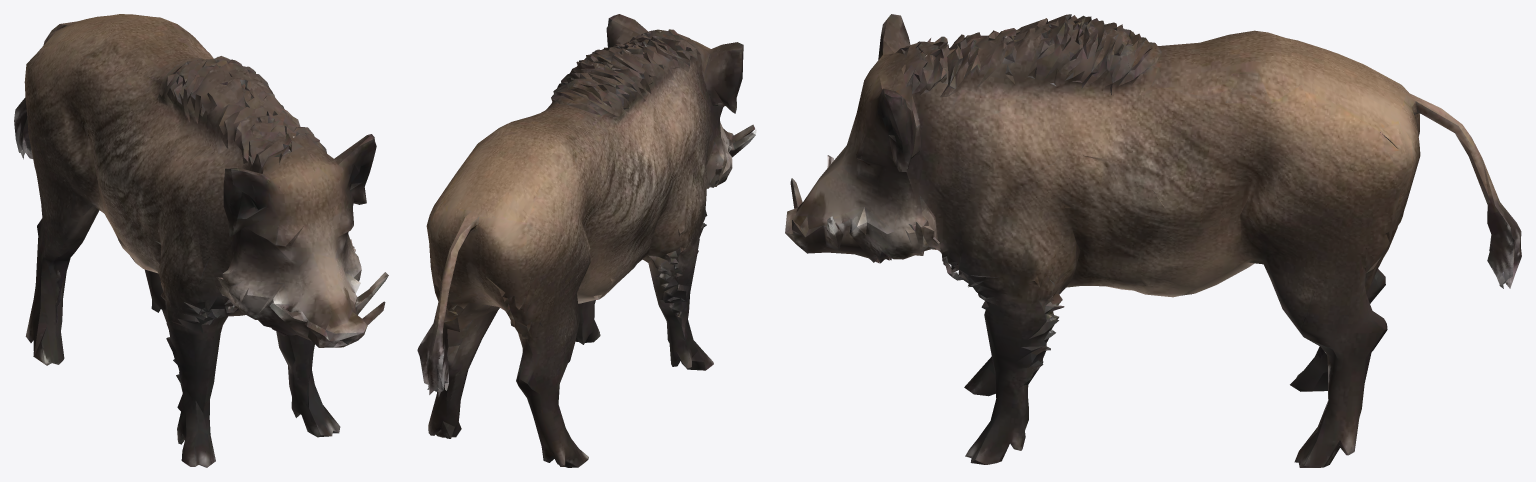
Rendered from boar.glb.
The picture shows the model from 3 angles, left to right: view 1: azimuth 30°, elevation 25°; view 2: azimuth 150°, elevation 25°; view 3: azimuth 270°, elevation 25°; orthographic projection. The views are drawn at different scales.
Visible parts, largest first — view 1: boar; view 2: boar; view 3: boar.
Boxes of the visible parts, left/top/right/bottom form: boar: left=14, top=14, right=388, bottom=467; boar: left=417, top=14, right=756, bottom=467; boar: left=785, top=14, right=1521, bottom=467.
Size of the model in its own units: 0.5292 by 1.1 by 1.8.
Materials: 1 (1 with a texture image).
